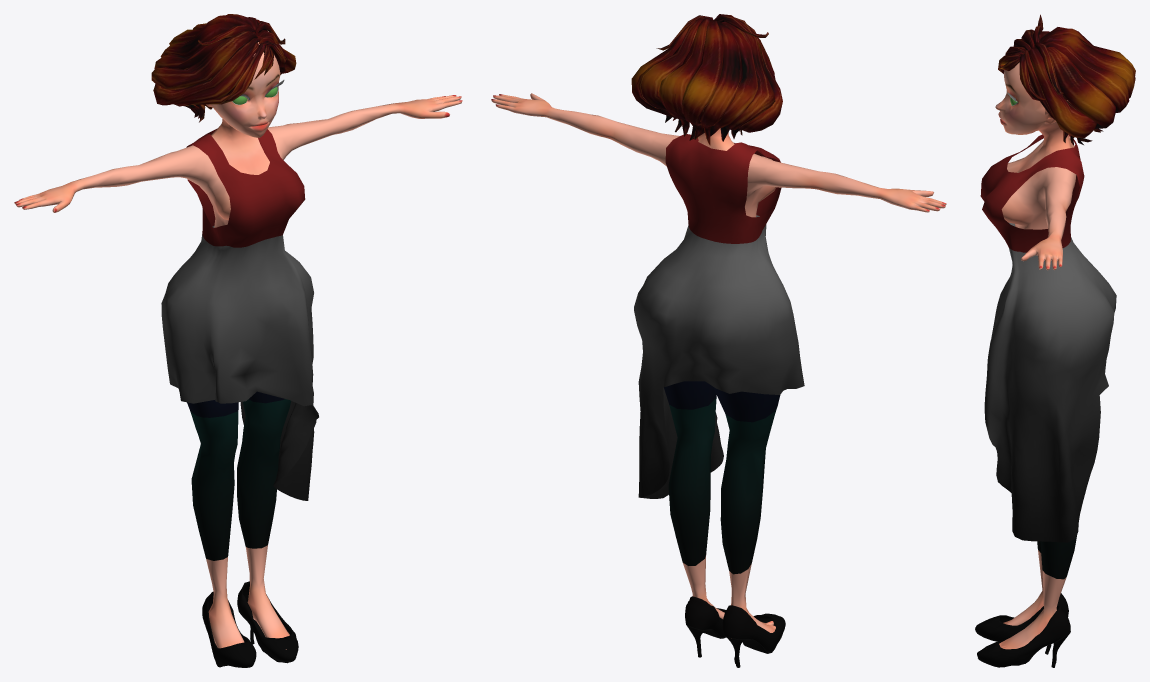
File: woman full.fbx
The picture shows the model from 3 angles, left to right: view 1: azimuth 30°, elevation 25°; view 2: azimuth 150°, elevation 25°; view 3: azimuth 270°, elevation 25°; orthographic projection.
Visible parts, largest first — view 1: CC_Base_Body; view 2: CC_Base_Body; view 3: CC_Base_Body.
Boxes of the visible parts, x1,y1,x2,y2 form: CC_Base_Body: (14, 14, 462, 667); CC_Base_Body: (491, 14, 946, 667); CC_Base_Body: (975, 14, 1135, 667).
Size of the model in its own units: 11813 by 16072 by 3696.
